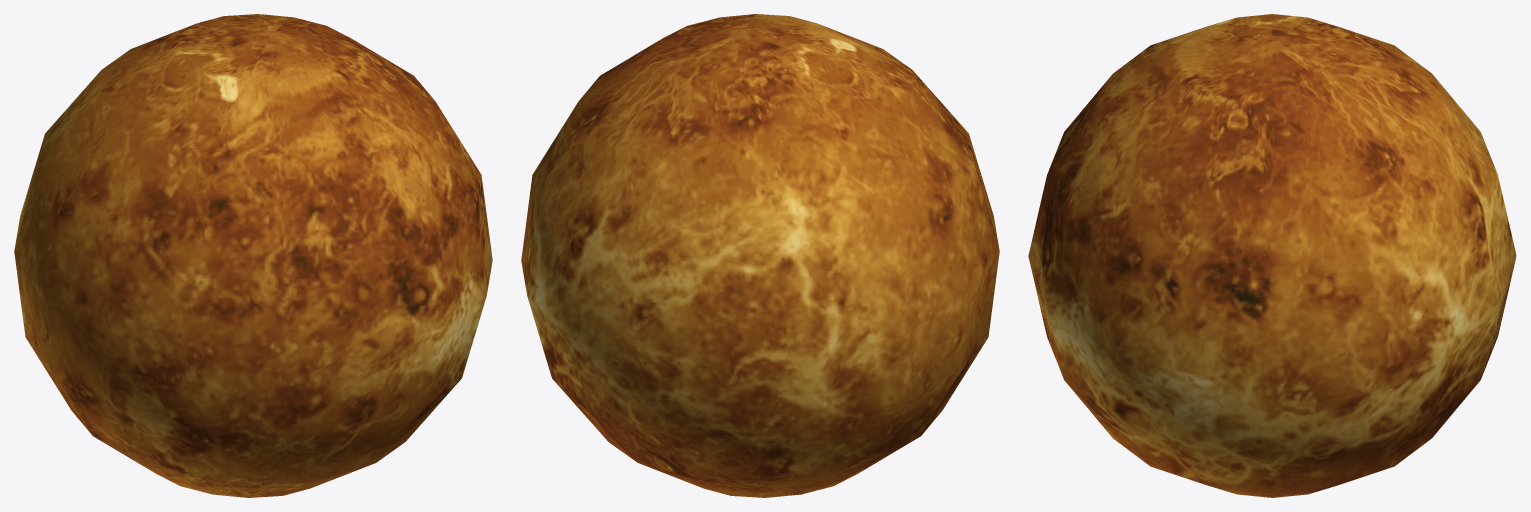
Rendered from moon.FBX.
3 renders of one model, left to right at view 1: azimuth 30°, elevation 25°; view 2: azimuth 150°, elevation 25°; view 3: azimuth 270°, elevation 25°, orthographic.
Parts seen in each view (by area): view 1: moon_01; view 2: moon_01; view 3: moon_01.
Boxes of the visible parts, left/top/right/bottom form: moon_01: left=14, top=14, right=492, bottom=497; moon_01: left=521, top=14, right=999, bottom=497; moon_01: left=1028, top=14, right=1516, bottom=497.
Size of the model in its own units: 7970 by 7970 by 8000.
Materials: 1 (1 with a texture image).
